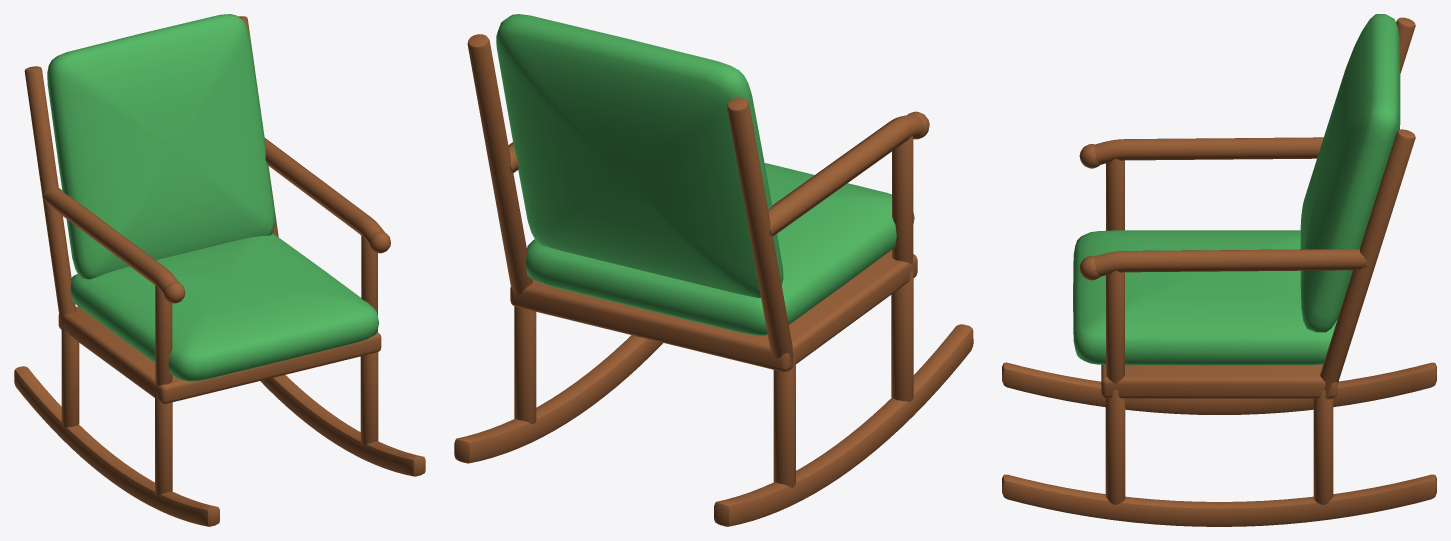
Rendered from cadeira_balanco_estofada_verde.glb.
3 renders of one model, left to right at view 1: azimuth 30°, elevation 25°; view 2: azimuth 150°, elevation 25°; view 3: azimuth 270°, elevation 25°, orthographic. The views are drawn at different scales.
Visible parts, largest first — view 1: cadeira_balanco_estofada_verde; view 2: cadeira_balanco_estofada_verde; view 3: cadeira_balanco_estofada_verde.
Part boxes in pixels (x1,y1,x2,y2): cadeira_balanco_estofada_verde: (14,14,425,526); cadeira_balanco_estofada_verde: (454,14,973,526); cadeira_balanco_estofada_verde: (1002,14,1436,526).
Bounding box in the file's own units: 0.6107 × 0.9598 × 0.92.
1 material, 1 textured.
